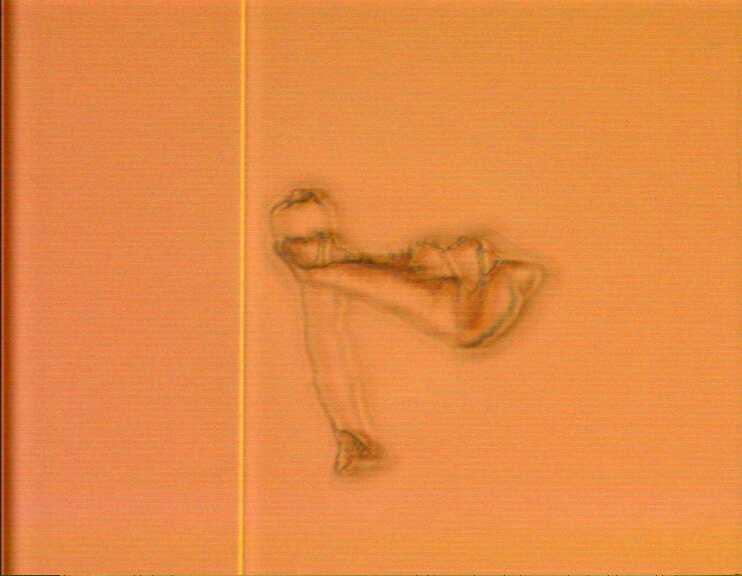PIQ PARTICLE: (263, 184, 555, 500)
